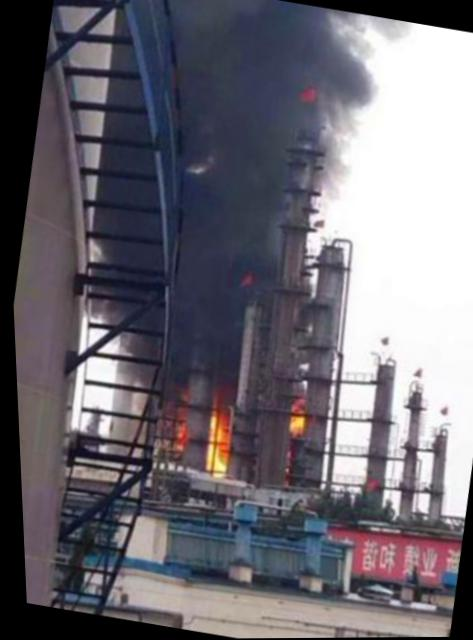fire: (196, 408, 231, 476), (283, 416, 301, 435), (287, 397, 304, 414)
